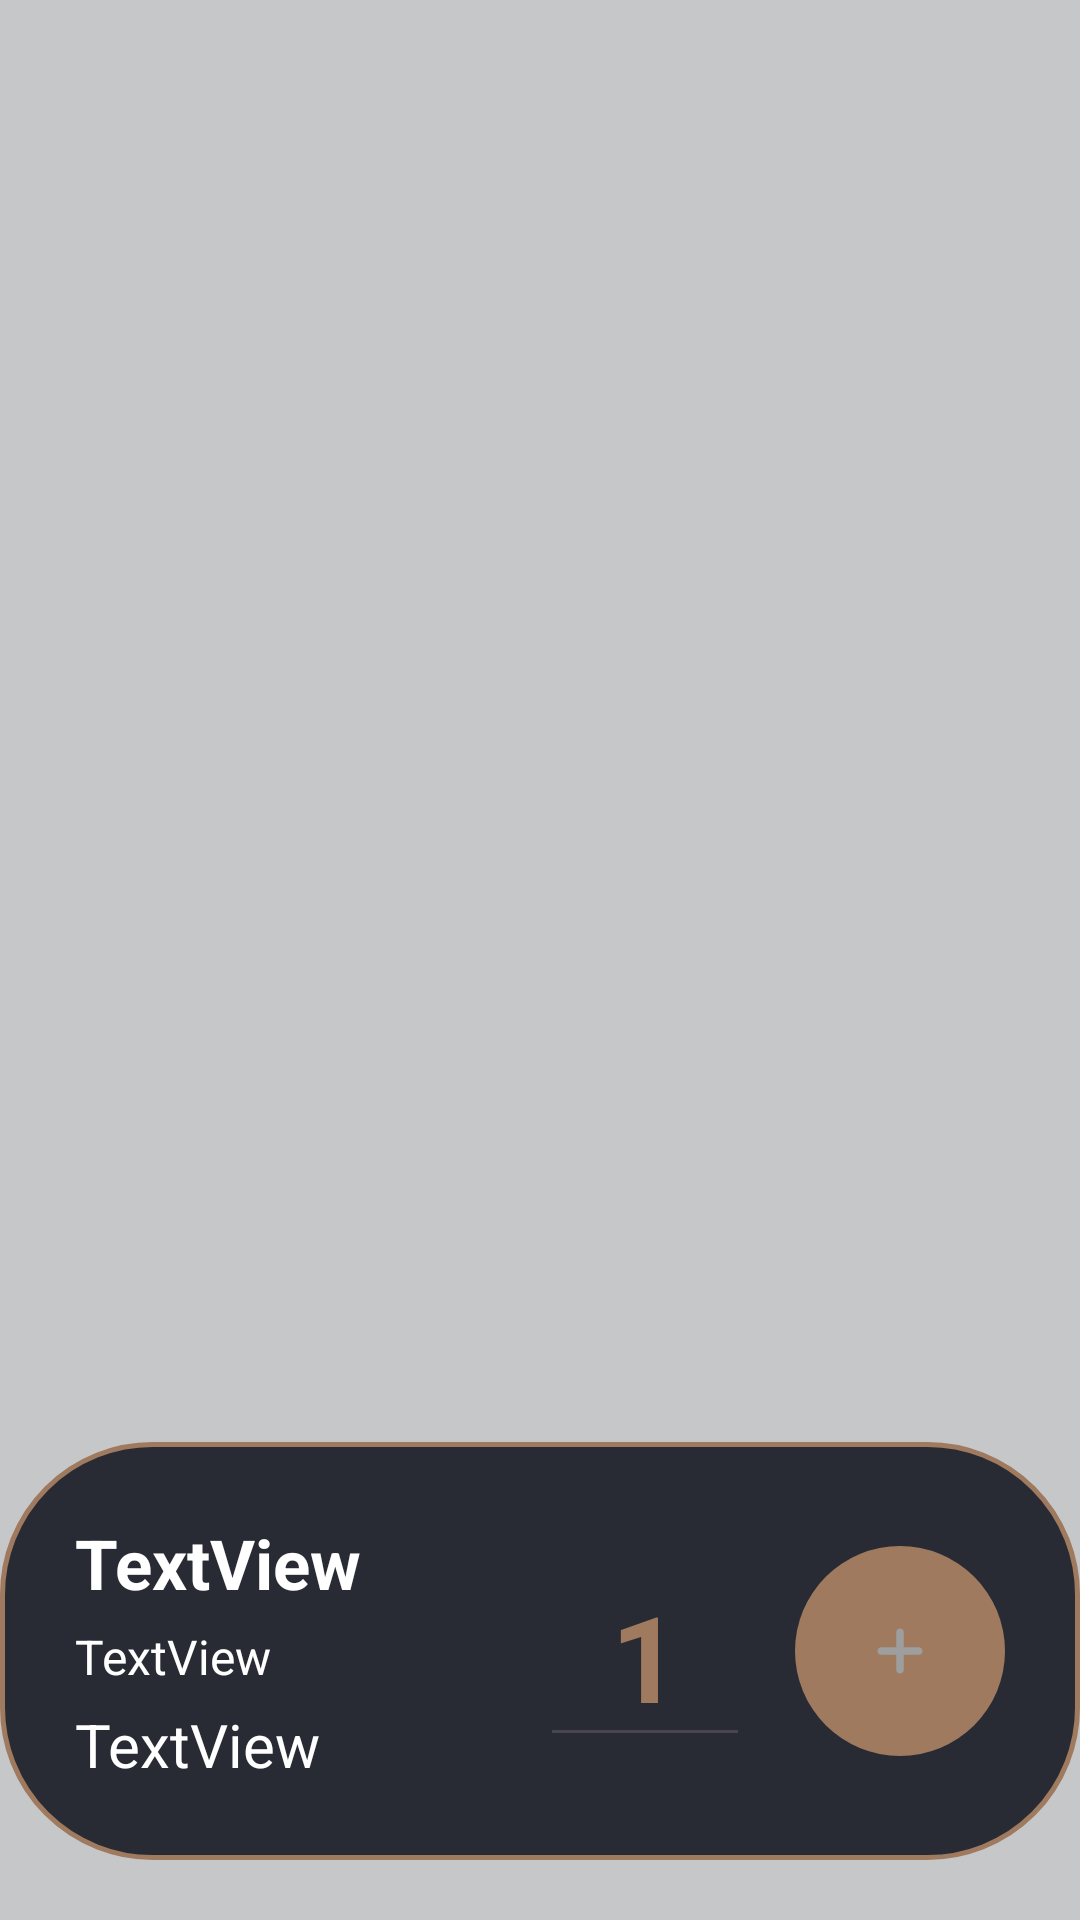

Point at icon controls on the screen. Image size 1080w x 1920h, points as (x=x, y=y).
plus round: (x=900, y=1651)
